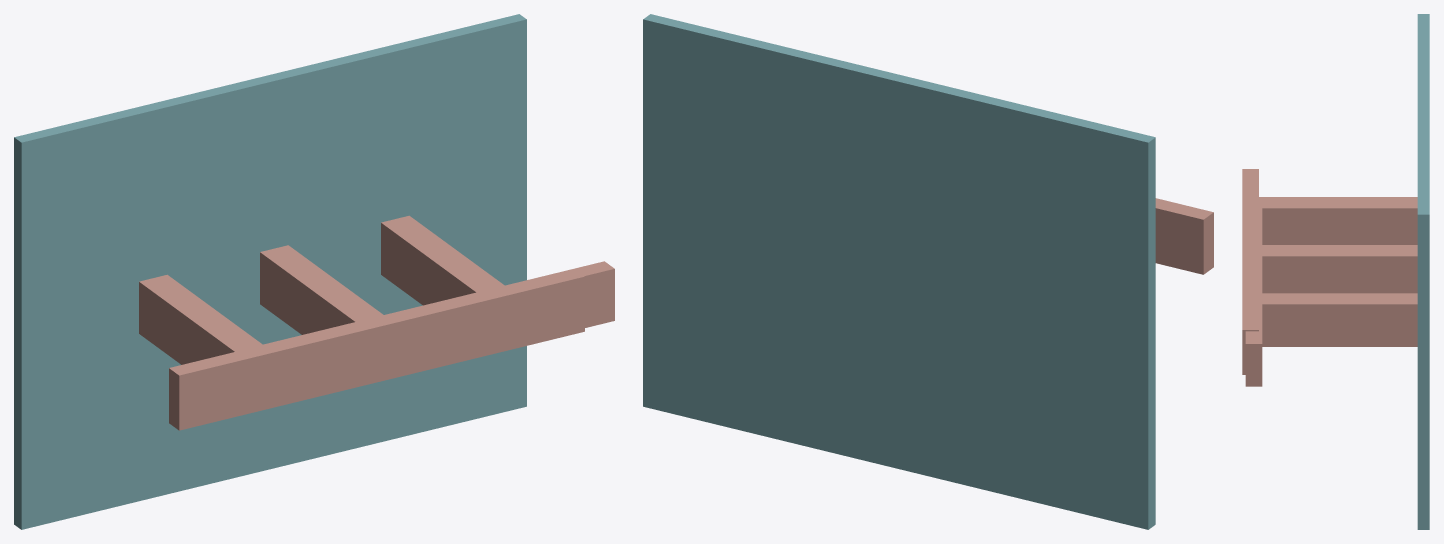
3 renders of one model, left to right at view 1: azimuth 30°, elevation 25°; view 2: azimuth 150°, elevation 25°; view 3: azimuth 270°, elevation 25°, orthographic. The views are drawn at different scales.
Visible parts, largest first — view 1: section_00, section_07, section_01, section_03, section_05, section_06; view 2: section_00, section_07; view 3: section_05, section_03, section_01, section_00, section_07, section_06.
Part boxes in pixels (bbox=[...]): section_00: bbox=[14, 14, 526, 529]; section_07: bbox=[169, 269, 584, 430]; section_01: bbox=[139, 274, 262, 364]; section_03: bbox=[260, 245, 383, 334]; section_05: bbox=[381, 215, 504, 305]; section_06: bbox=[498, 261, 614, 327]; section_00: bbox=[643, 14, 1155, 529]; section_07: bbox=[1155, 198, 1213, 274]; section_05: bbox=[1259, 293, 1417, 346]; section_03: bbox=[1259, 245, 1417, 293]; section_01: bbox=[1259, 197, 1417, 244]; section_00: bbox=[1417, 14, 1429, 529]; section_07: bbox=[1242, 169, 1258, 374]; section_06: bbox=[1245, 301, 1262, 386].
Bounding box in the file's own units: 7.1 × 5.2 × 2.81.
